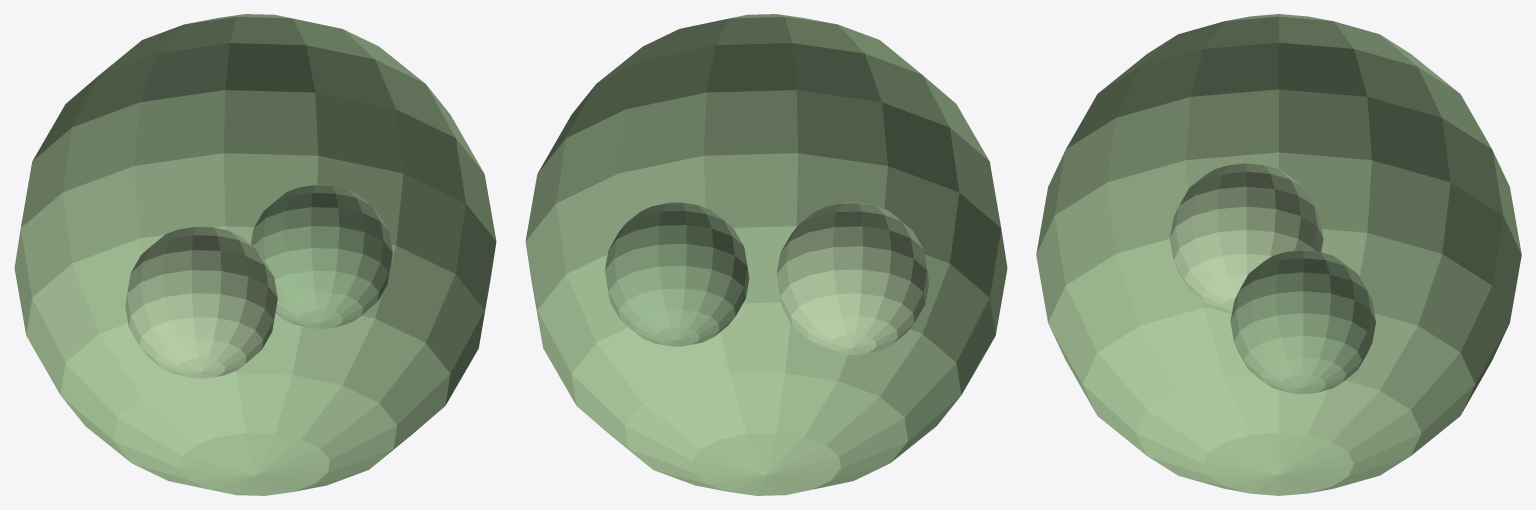
Rendered from shrub-boxwood.glb.
3 views of the same model, side by side, from view 1: azimuth 30°, elevation 25°; view 2: azimuth 150°, elevation 25°; view 3: azimuth 270°, elevation 25° (orthographic).
Parts seen in each view (by area): view 1: Development shape 1, Development shape 2, Development shape 3; view 2: Development shape 1, Development shape 2, Development shape 3; view 3: Development shape 1, Development shape 3, Development shape 2.
Boxes of the visible parts, x1,y1,x2,y2 form: Development shape 1: (14,14,496,495); Development shape 2: (125,226,277,378); Development shape 3: (251,184,392,328); Development shape 1: (525,14,1007,495); Development shape 2: (776,202,928,354); Development shape 3: (605,202,749,346); Development shape 1: (1036,14,1521,495); Development shape 3: (1230,249,1375,394); Development shape 2: (1169,163,1323,313).
Bounding box in the file's own units: 1.2 × 1.2 × 1.2.
